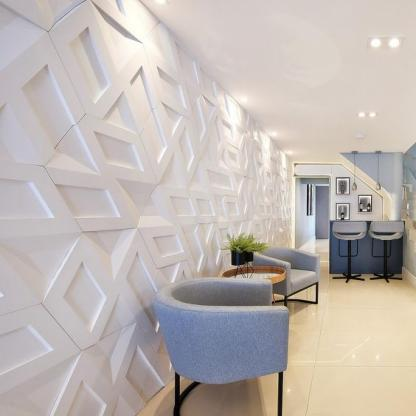Futech tiles: (18, 6, 275, 233)
